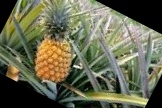Pineapple: (34, 2, 76, 83)
